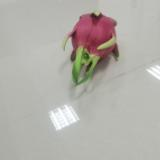pitaya: (64, 12, 119, 83)
